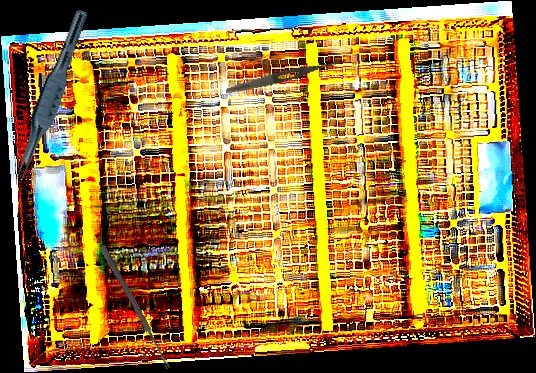Dressing Forceps: (224, 54, 347, 97)
Surgical Spoon: (98, 245, 173, 370)
Tissue Forceps: (10, 5, 90, 187)
